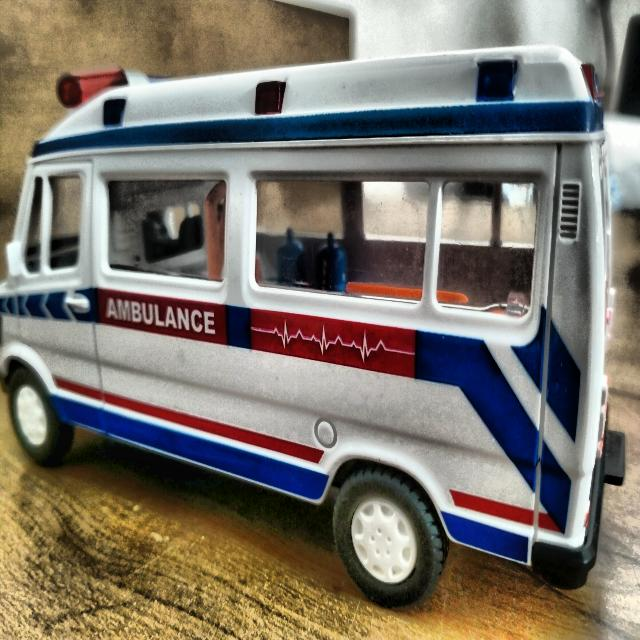Ambulance: (2, 39, 630, 606)
